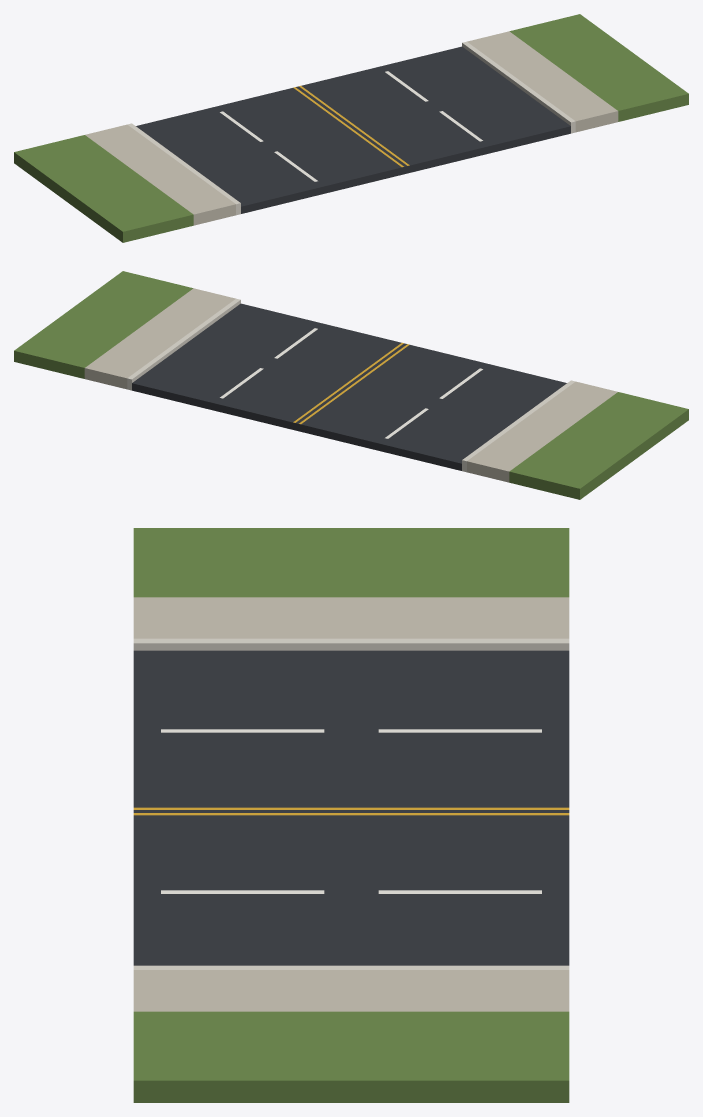
The model's file is Road_4Lane_Sidewalk_Straight_8m.glb.
3 views of the same model, one above another, from view 1: azimuth 30°, elevation 25°; view 2: azimuth 150°, elevation 25°; view 3: azimuth 270°, elevation 25° (orthographic). The views are drawn at different scales.
Parts seen in each view (by area): view 1: Road_4Lane_Sidewalk_Straight_8m_Asphalt, Road_4Lane_Sidewalk_Straight_8m_Grass-edge, Road_4Lane_Sidewalk_Straight_8m_Sidewalk, Road_4Lane_Sidewalk_Straight_8m_Curb, Road_4Lane_Sidewalk_Straight_8m_PaintWhite, Road_4Lane_Sidewalk_Straight_8m_PaintYellow; view 2: Road_4Lane_Sidewalk_Straight_8m_Asphalt, Road_4Lane_Sidewalk_Straight_8m_Grass-edge, Road_4Lane_Sidewalk_Straight_8m_Sidewalk, Road_4Lane_Sidewalk_Straight_8m_Curb, Road_4Lane_Sidewalk_Straight_8m_PaintWhite, Road_4Lane_Sidewalk_Straight_8m_PaintYellow; view 3: Road_4Lane_Sidewalk_Straight_8m_Asphalt, Road_4Lane_Sidewalk_Straight_8m_Grass-edge, Road_4Lane_Sidewalk_Straight_8m_Sidewalk, Road_4Lane_Sidewalk_Straight_8m_Curb, Road_4Lane_Sidewalk_Straight_8m_PaintWhite, Road_4Lane_Sidewalk_Straight_8m_PaintYellow.
Part boxes in pixels (box(x1,y1,x2,y2)): Road_4Lane_Sidewalk_Straight_8m_Asphalt: box(136, 46, 570, 213); Road_4Lane_Sidewalk_Straight_8m_Grass-edge: box(14, 14, 688, 242); Road_4Lane_Sidewalk_Straight_8m_Sidewalk: box(85, 31, 618, 225); Road_4Lane_Sidewalk_Straight_8m_Curb: box(127, 41, 575, 215); Road_4Lane_Sidewalk_Straight_8m_PaintWhite: box(220, 71, 482, 181); Road_4Lane_Sidewalk_Straight_8m_PaintYellow: box(293, 85, 409, 167); Road_4Lane_Sidewalk_Straight_8m_Asphalt: box(132, 303, 566, 470); Road_4Lane_Sidewalk_Straight_8m_Grass-edge: box(14, 271, 688, 499); Road_4Lane_Sidewalk_Straight_8m_Sidewalk: box(84, 288, 617, 482); Road_4Lane_Sidewalk_Straight_8m_Curb: box(127, 298, 575, 472); Road_4Lane_Sidewalk_Straight_8m_PaintWhite: box(220, 328, 482, 438); Road_4Lane_Sidewalk_Straight_8m_PaintYellow: box(293, 342, 409, 424); Road_4Lane_Sidewalk_Straight_8m_Asphalt: box(133, 650, 569, 965); Road_4Lane_Sidewalk_Straight_8m_Grass-edge: box(133, 528, 569, 1102); Road_4Lane_Sidewalk_Straight_8m_Sidewalk: box(133, 597, 569, 1011); Road_4Lane_Sidewalk_Straight_8m_Curb: box(133, 638, 569, 969); Road_4Lane_Sidewalk_Straight_8m_PaintWhite: box(161, 729, 541, 893); Road_4Lane_Sidewalk_Straight_8m_PaintYellow: box(133, 807, 569, 815).
Size of the model in its own units: 24 by 0.45 by 8.
